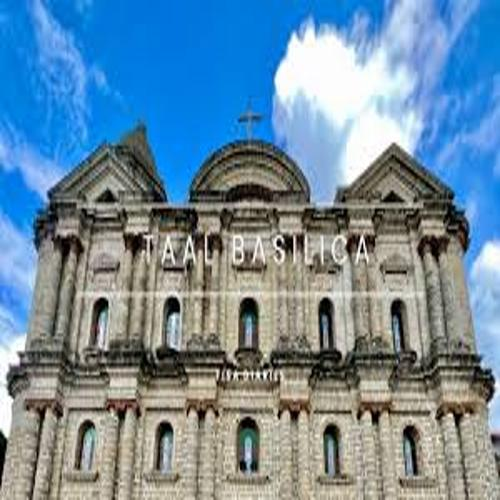Taal Basilica Church: (7, 110, 500, 499)
